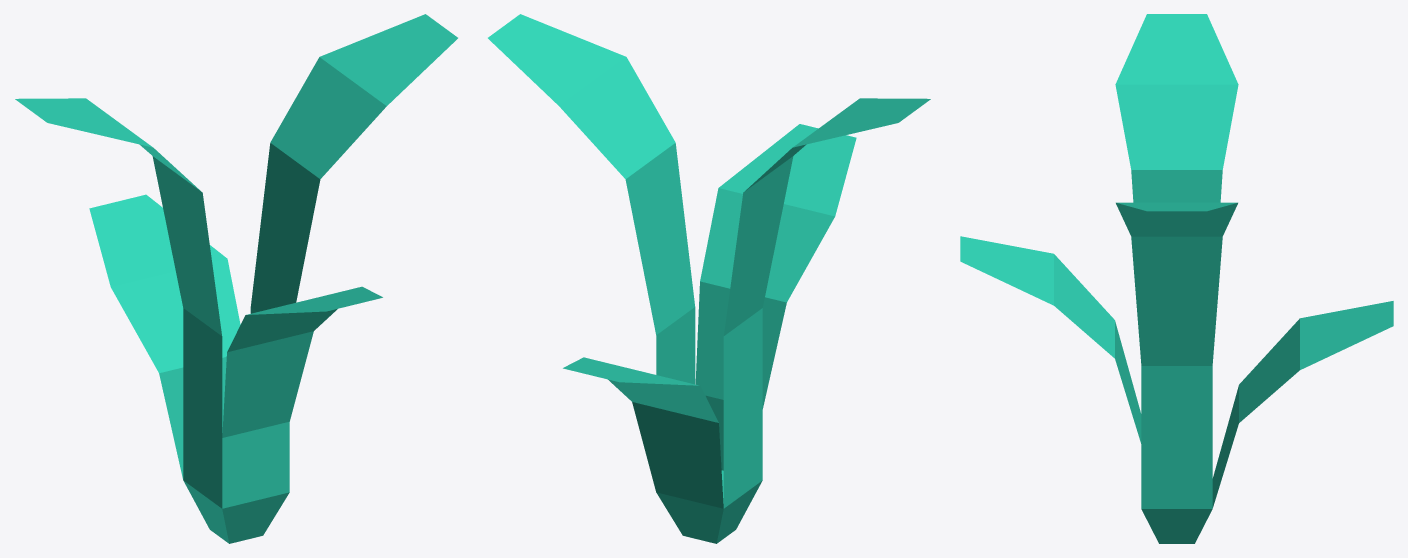
The model's file is crops_leafsStageA.dae.
3 renders of one model, left to right at view 1: azimuth 30°, elevation 25°; view 2: azimuth 150°, elevation 25°; view 3: azimuth 270°, elevation 25°, orthographic. The views are drawn at different scales.
Visible parts, largest first — view 1: crops_leafsStageA; view 2: crops_leafsStageA; view 3: crops_leafsStageA.
Boxes of the visible parts, x1,y1,x2,y2 form: crops_leafsStageA: [15, 14, 457, 543]; crops_leafsStageA: [488, 14, 930, 543]; crops_leafsStageA: [960, 14, 1393, 543].
Size of the model in its own units: 0.3894 by 0.4271 by 0.3894.
